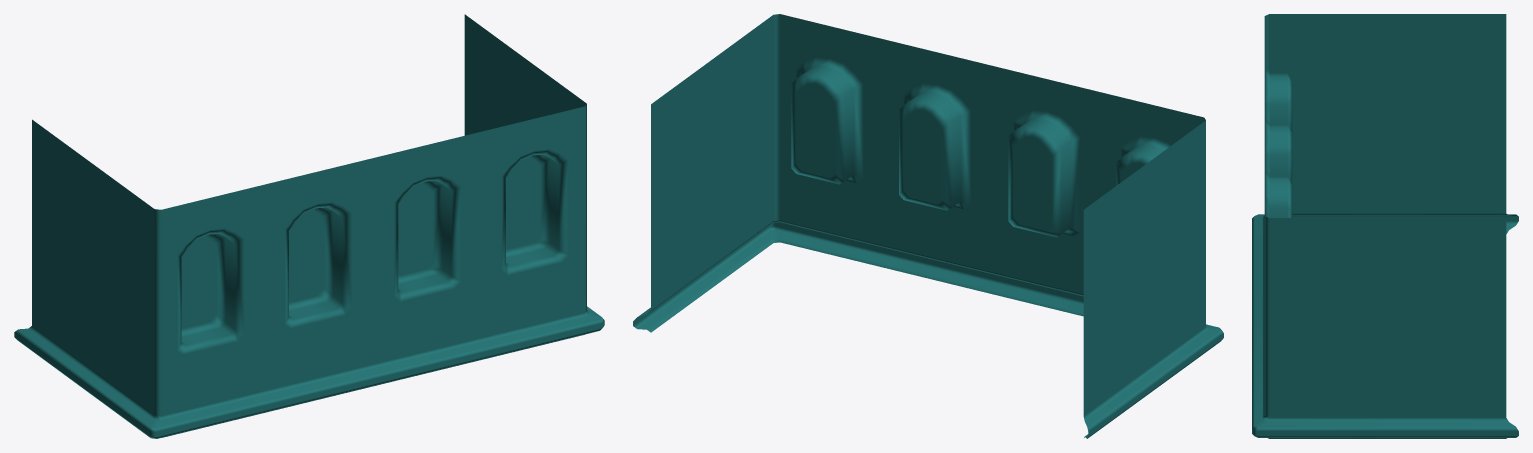
The model's file is SM_Building_Middle_02.fbx.
3 renders of one model, left to right at view 1: azimuth 30°, elevation 25°; view 2: azimuth 150°, elevation 25°; view 3: azimuth 270°, elevation 25°, orthographic. The views are drawn at different scales.
Visible parts, largest first — view 1: Object009; view 2: Object009; view 3: Object009.
Part boxes in pixels (x1,y1,x2,y2): Object009: (14,14,604,438); Object009: (633,14,1223,438); Object009: (1252,14,1518,438).
Bounding box in the file's own units: 631 × 303 × 331.
